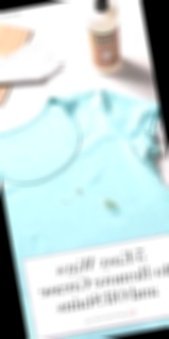oil: (101, 188, 125, 213), (54, 195, 74, 218), (75, 183, 86, 197)
